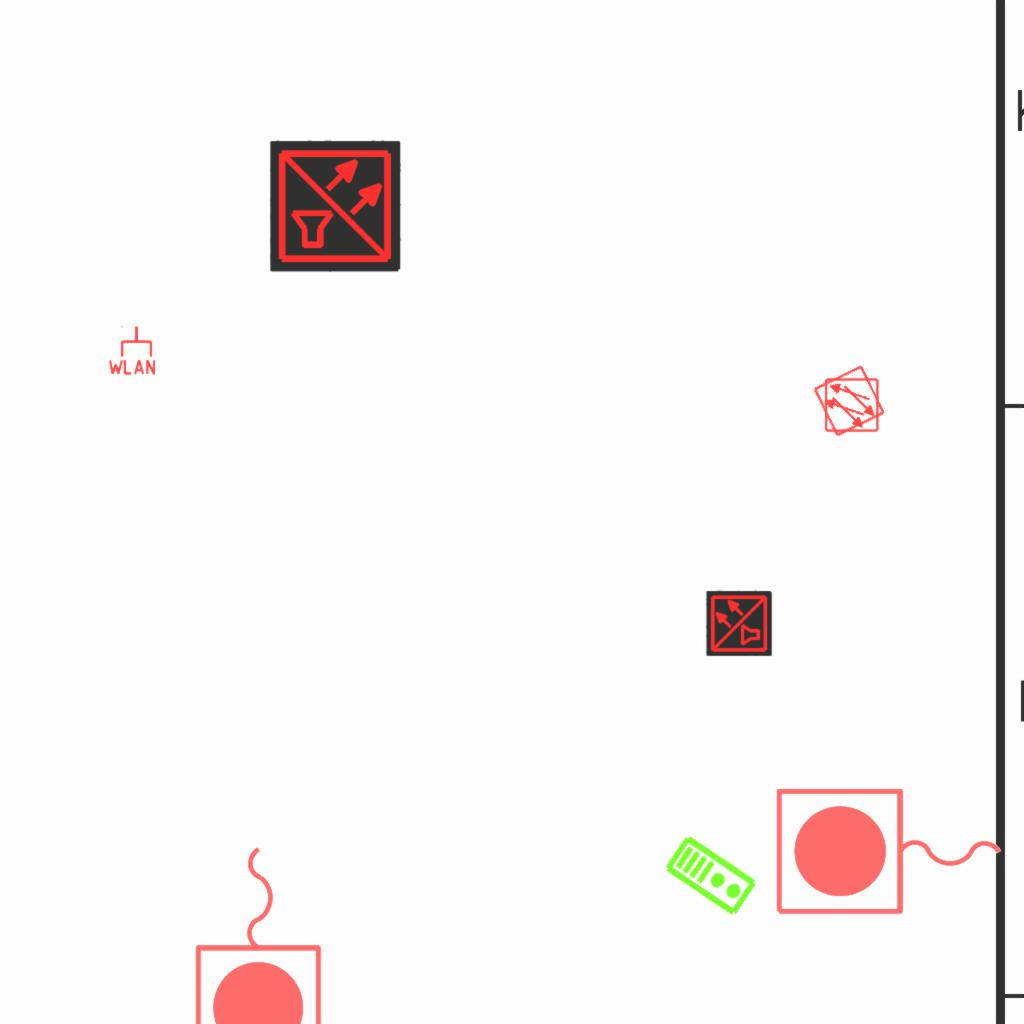Gegensprechanlage_mit_Video: (661, 830, 762, 920)
OKW_Multisensormelder_(Kombination_optischer_Rauch-Kahlenmonoxid_Waerme-Melder): (270, 140, 402, 272), (706, 590, 772, 656)
RMO_Rauchmelder_optischer: (811, 363, 887, 439), (824, 377, 880, 433)
WLAN: (106, 324, 158, 376)
Zugtaster: (768, 781, 1012, 925), (188, 836, 332, 1024)
